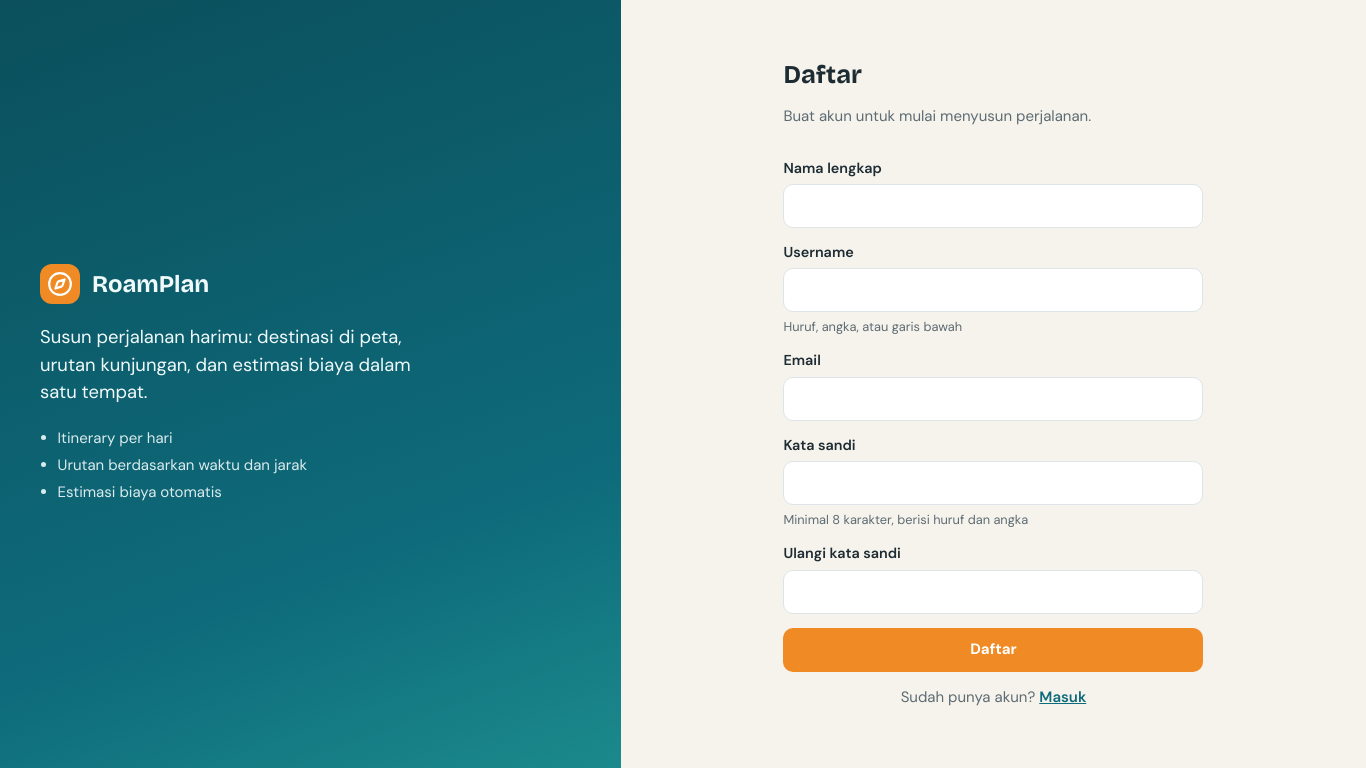
halaman daftar (terpisah dari masuk) › menolak konfirmasi kata sandi yang tidak sama
In the field labelled "Nama lengkap": (993, 206) [783,184,1203,228], type "Alice Samosir"
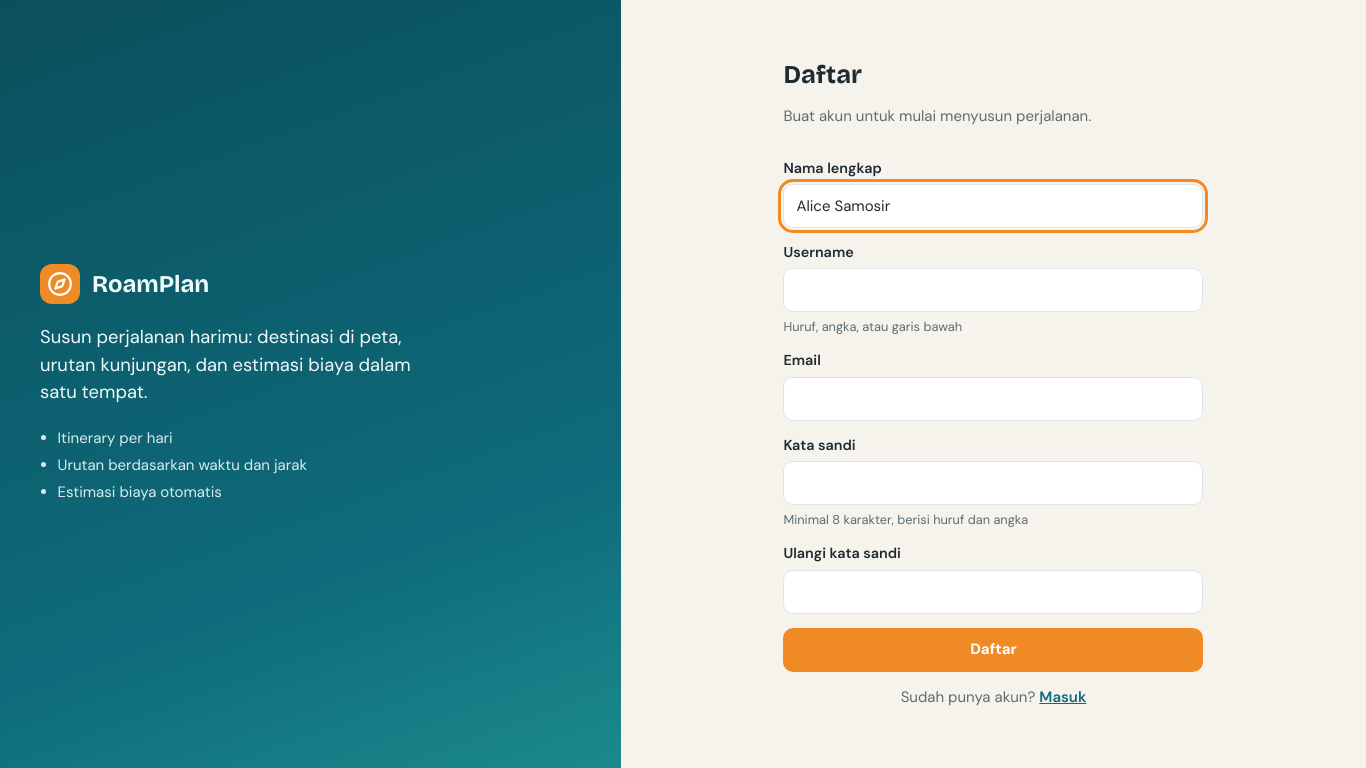
In the field labelled "Username": (993, 290) [783,268,1203,312], type "alice01"
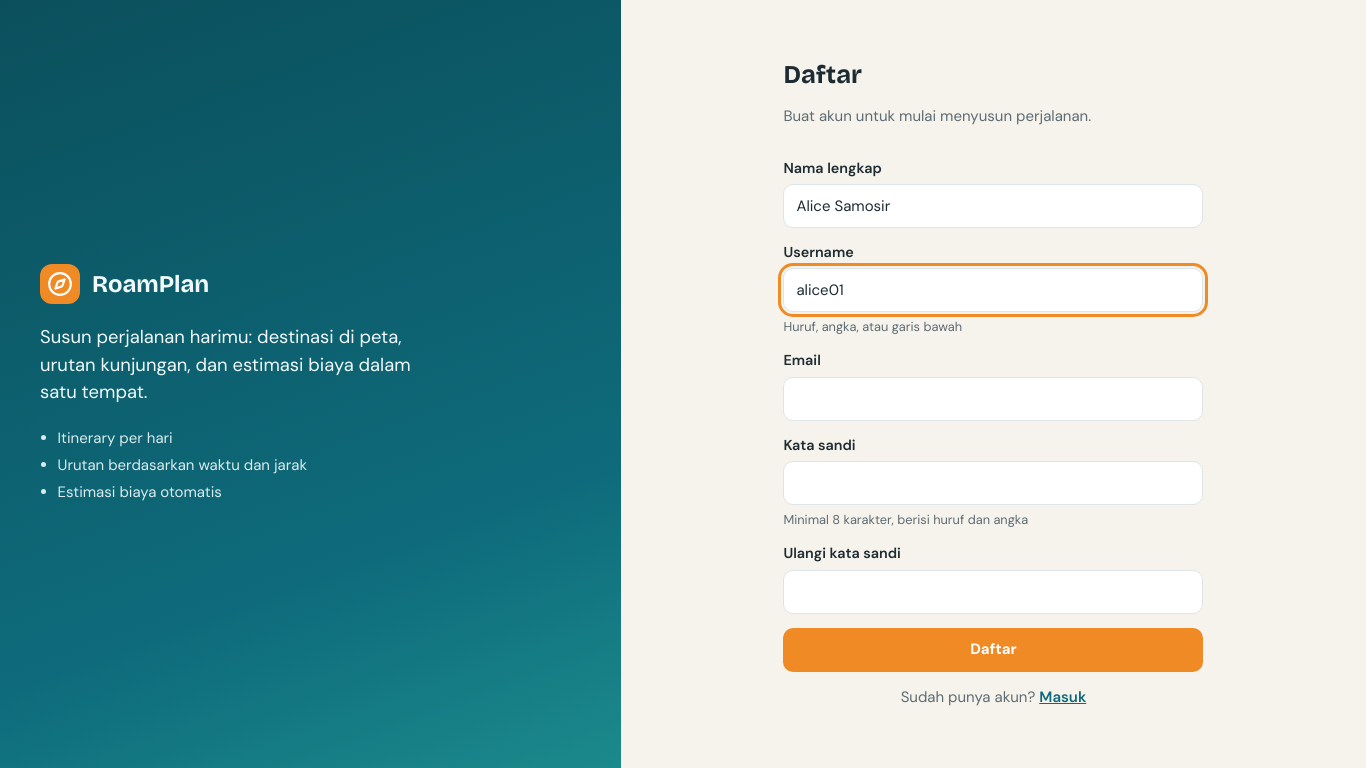
In the field labelled "Email": (993, 399) [783,377,1203,421], type "alice@example.com"
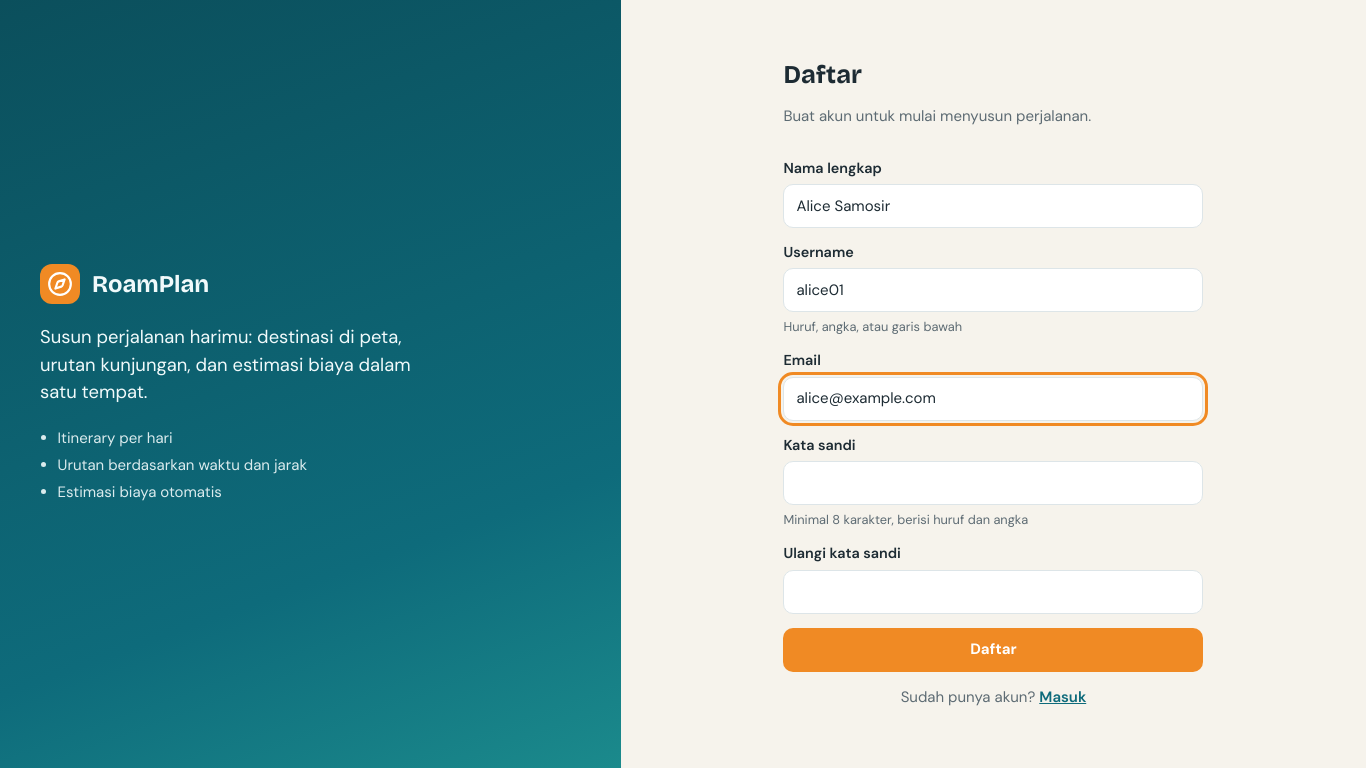
In the password field labelled "Kata sandi": (993, 483) [783,461,1203,505], type "rahasia123"
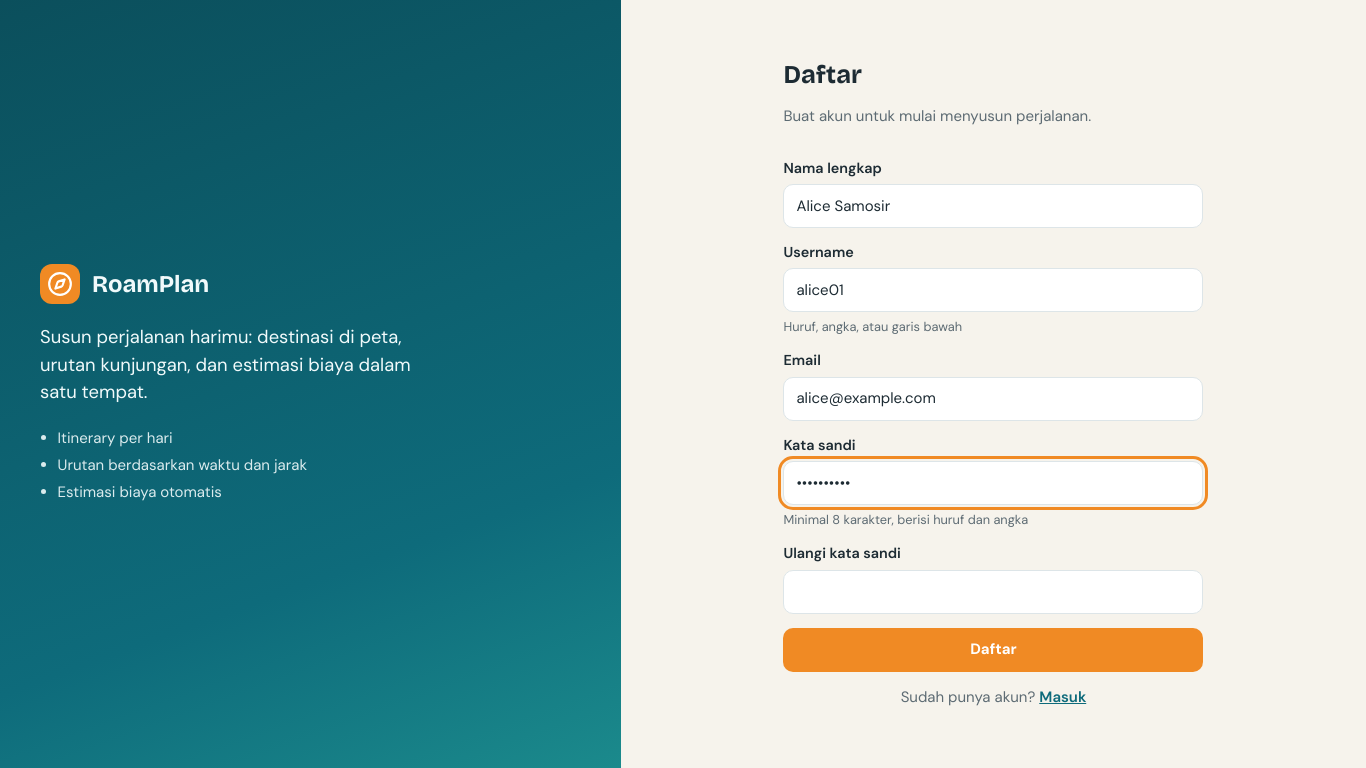
In the password field labelled "Ulangi kata sandi": (993, 592) [783,570,1203,614], type "rahasia999"
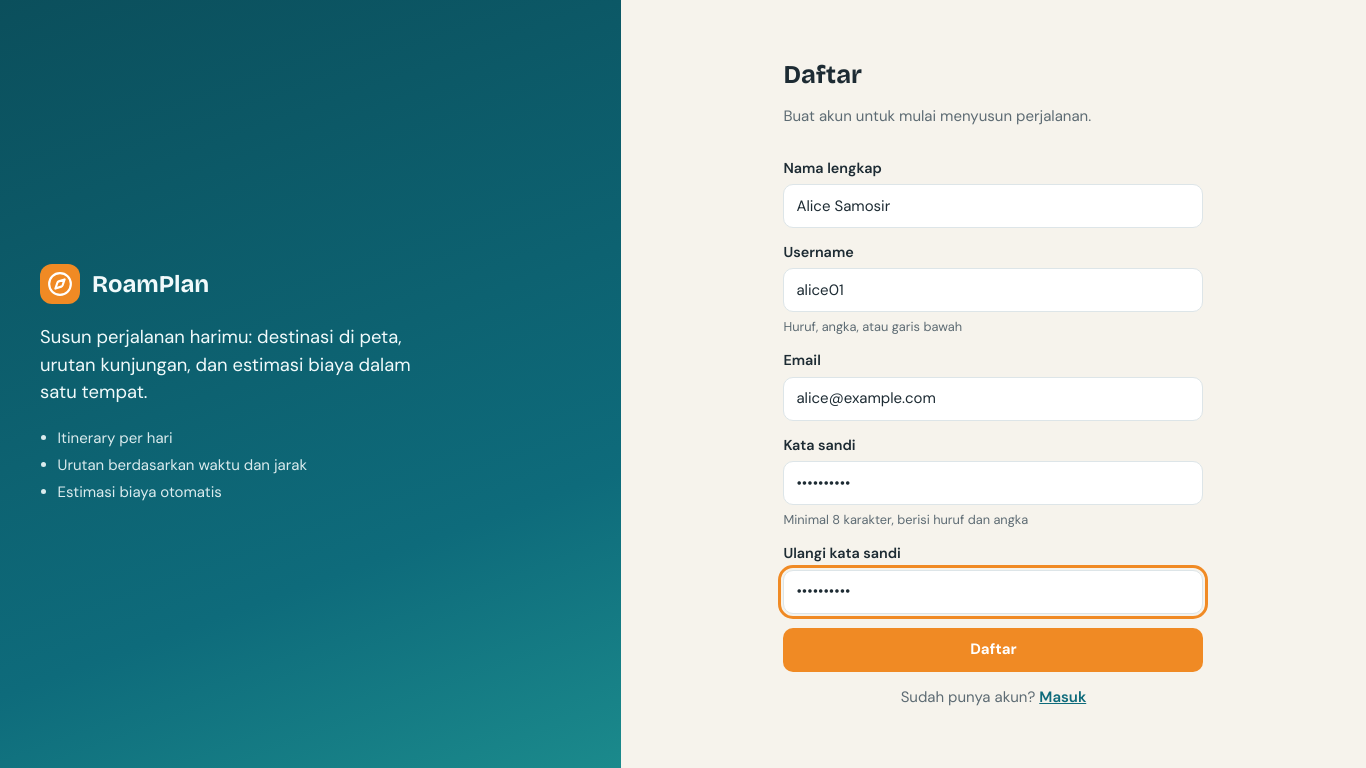
Click the button "Daftar": click(993, 650) [783,628,1203,672]
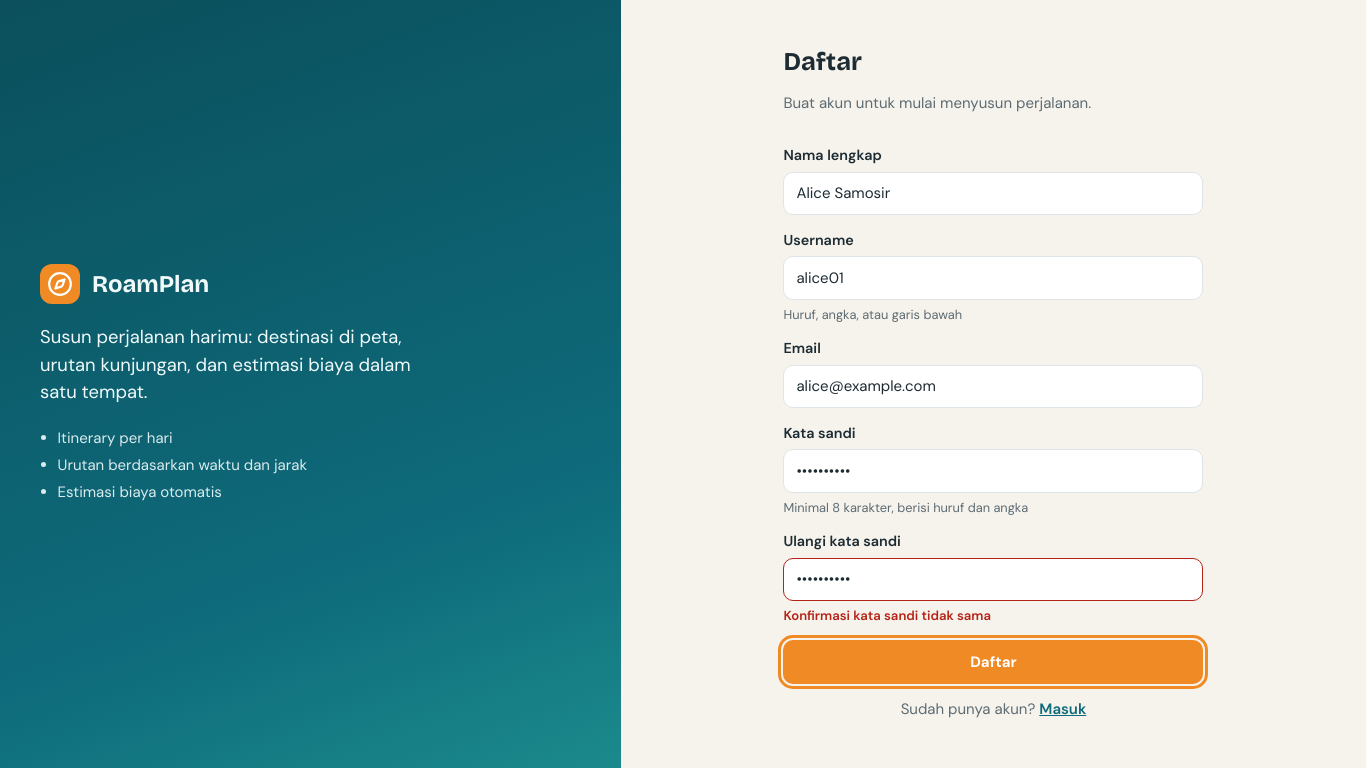
Result: the text "Konfirmasi kata sandi tidak sama" is shown at [783,607,991,624]
